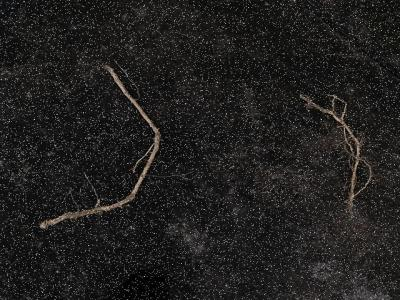Root: (41, 66, 160, 228), (301, 95, 360, 210)
